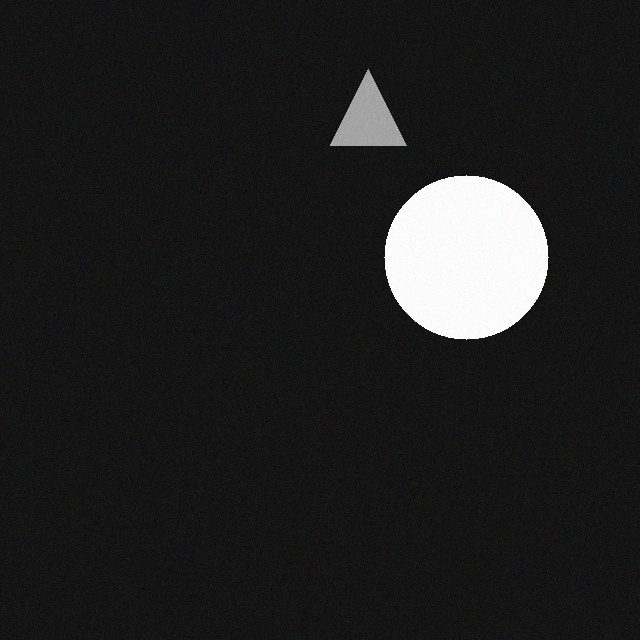circle: (396, 173, 560, 337)
triangle: (342, 67, 418, 143)
